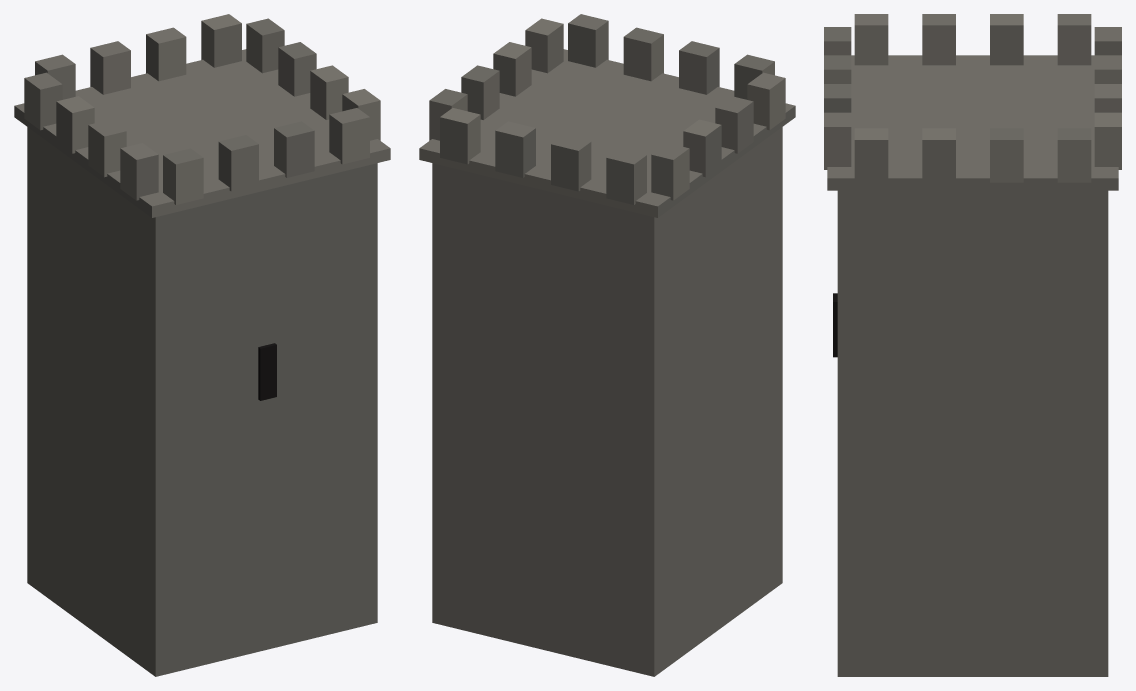
The model's file is walk_hallowed_tower.glb.
The picture shows the model from 3 angles, left to right: view 1: azimuth 30°, elevation 25°; view 2: azimuth 150°, elevation 25°; view 3: azimuth 270°, elevation 25°; orthographic projection. The views are drawn at different scales.
Visible parts, largest first — view 1: walk_hallowed_tower; view 2: walk_hallowed_tower; view 3: walk_hallowed_tower.
Part boxes in pixels (x1,y1,x2,y2): walk_hallowed_tower: [14, 14, 390, 676]; walk_hallowed_tower: [419, 14, 795, 676]; walk_hallowed_tower: [824, 14, 1121, 676].
Size of what is drawn, in the model's own units: 4.4 by 8.85 by 4.4.
Materials: 1 (1 with a texture image).
